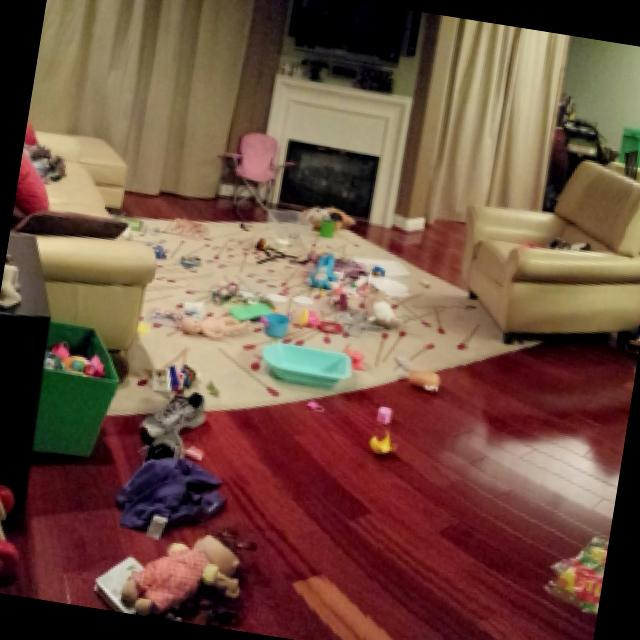mess: (102, 180, 472, 640), (453, 387, 627, 640), (7, 110, 156, 271), (460, 191, 640, 298), (0, 227, 58, 395), (608, 115, 640, 183)
